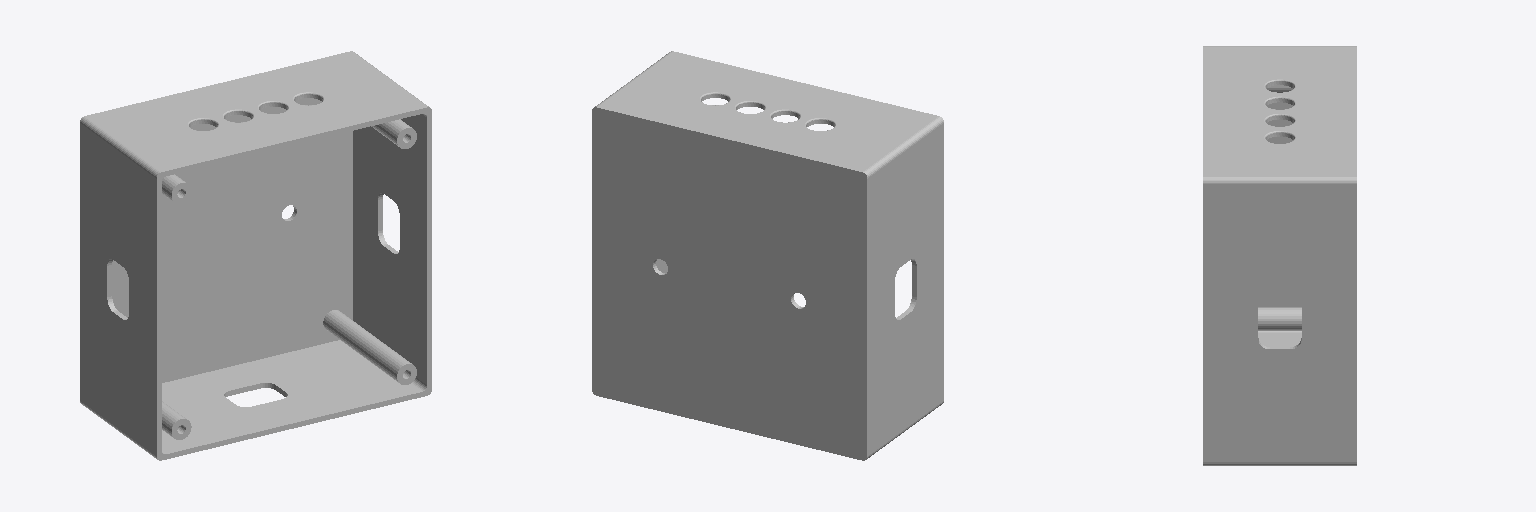
Rendered from case_Base.obj.
The picture shows the model from 3 angles: view 1: azimuth 30°, elevation 25°; view 2: azimuth 150°, elevation 25°; view 3: azimuth 270°, elevation 25°; orthographic projection.
Parts seen in each view (by area): view 1: Solid1; view 2: Solid1; view 3: Solid1.
Boxes of the visible parts, x1,y1,x2,y2 form: Solid1: [80, 51, 431, 460]; Solid1: [592, 51, 943, 460]; Solid1: [1203, 46, 1356, 465].
Size of the model in its own units: 0.11 by 0.11 by 0.053.